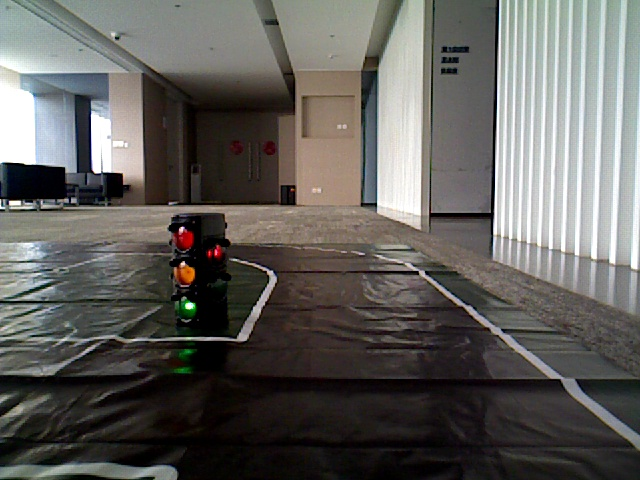green: (171, 217, 200, 313)
